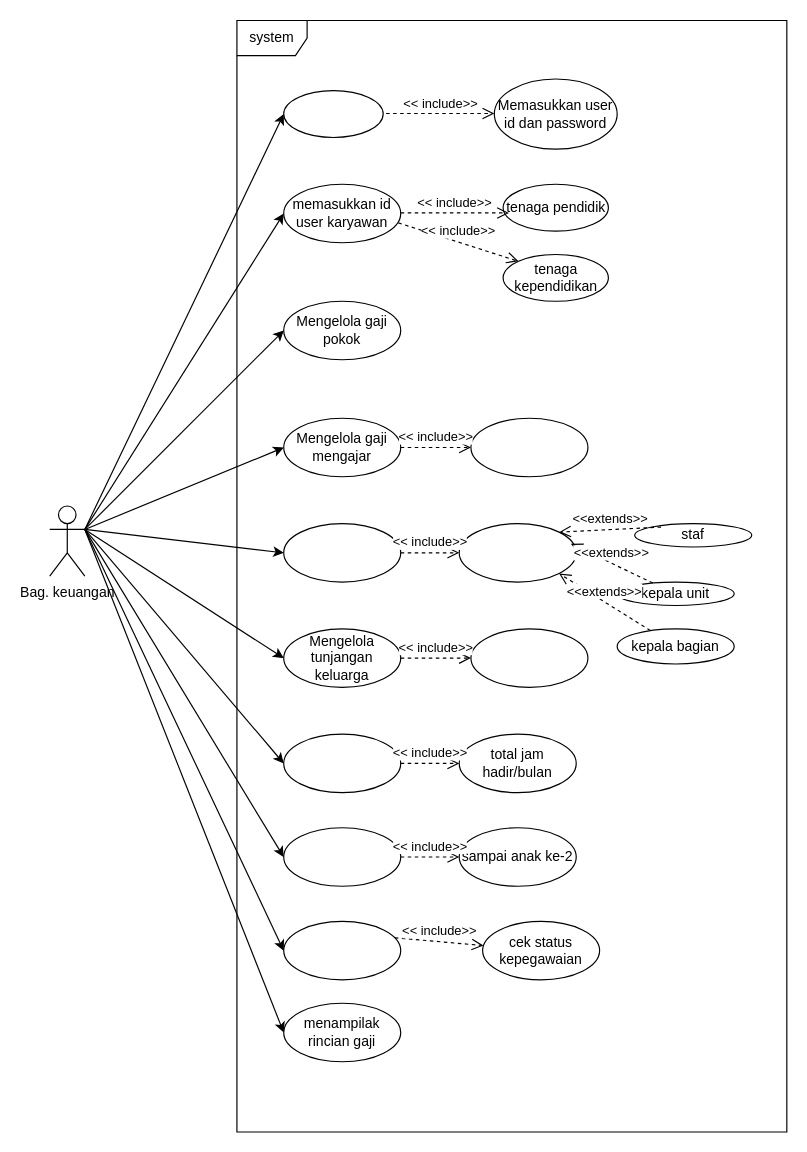
The diagram is 807 pixels wide and 1152 high, and some of its shapes have lost their labels. Here are the shapes that lost their labels. From the top down, the box of each, then its label:
(283, 90, 383, 137): Melakukan login
(470, 417, 588, 477): total jam mengajar/bulan
(283, 522, 401, 582): Mengelola tunjangan
(458, 522, 576, 582): Jabatan
(470, 628, 588, 687): status berkeluarga
(283, 733, 401, 793): Mengelola Tunjangan kehadiran
(283, 827, 401, 886): Mengelola Tunjangan anak
(283, 920, 401, 980): Mengelola Tunjangan perumahan
